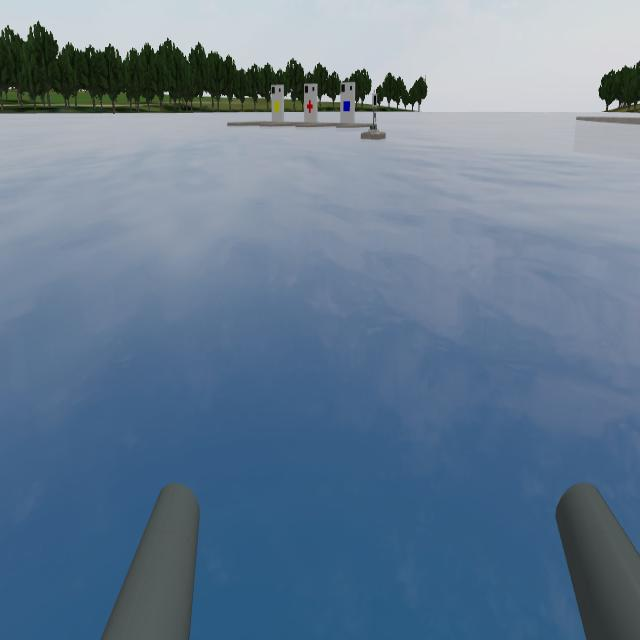black_pole: (369, 90, 383, 114)
